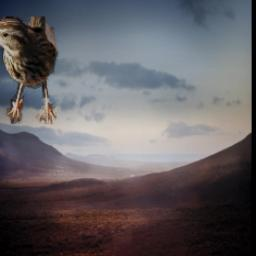Sparrow: (0, 16, 59, 124)
